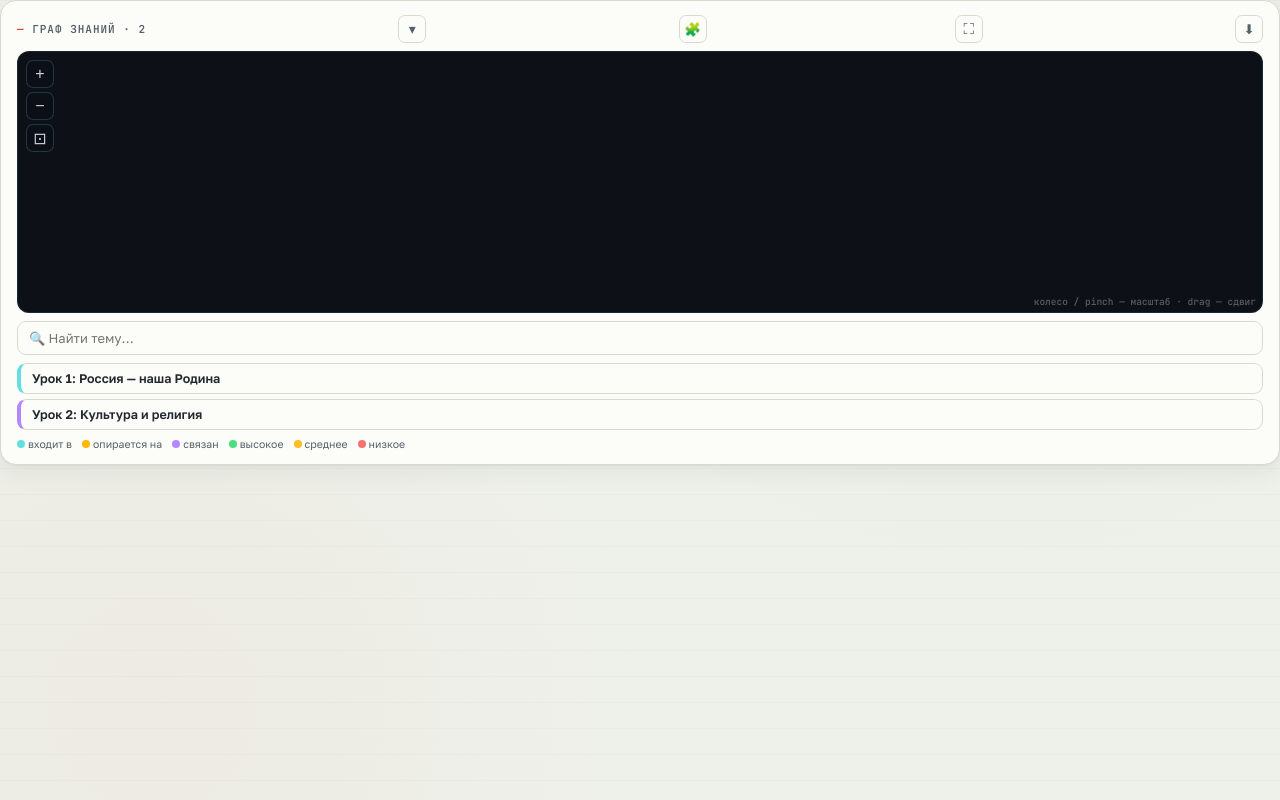
Test: KnowledgeGraphPanel › drill-down показывает связанные темы (roadmap #3)
Click the button "Урок 2: Культура и религия": (117, 414) [17,399,1263,430]
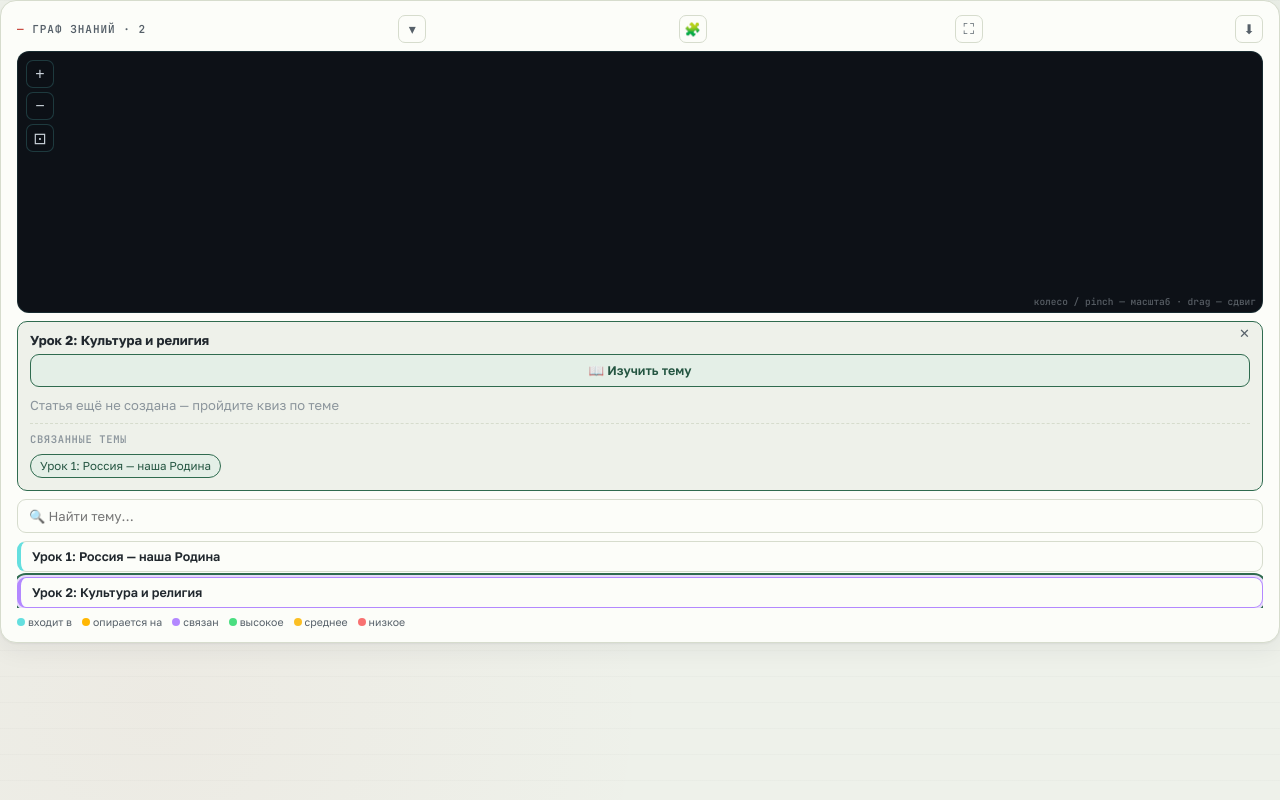
Now the text "Связанные темы" is shown, box [30,432,127,446]
Now the button "Урок 1: Россия — наша Родина" below "Связанные темы" is shown, box [30,454,221,478]
